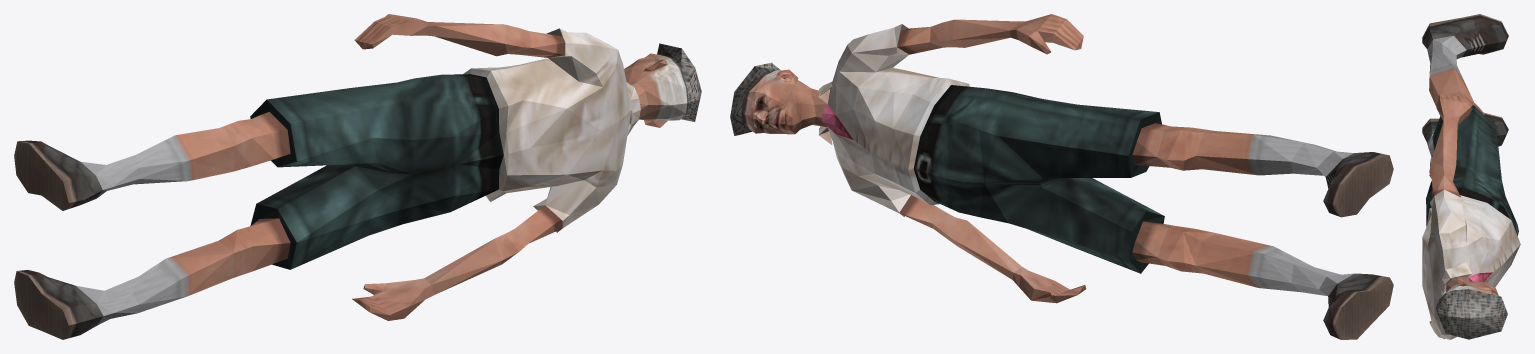
Rendered from wmori.obj.
3 renders of one model, left to right at view 1: azimuth 30°, elevation 25°; view 2: azimuth 150°, elevation 25°; view 3: azimuth 270°, elevation 25°, orthographic. The views are drawn at different scales.
Visible parts, largest first — view 1: Root; view 2: Root; view 3: Root.
Part boxes in pixels (<box>): Root: <box>14,14,701,339</box>; Root: <box>730,14,1393,339</box>; Root: <box>1422,14,1520,339</box>.
Bounding box in the file's own units: 1.66 × 0.7121 × 0.2902.
Materials: 1 (1 with a texture image).
